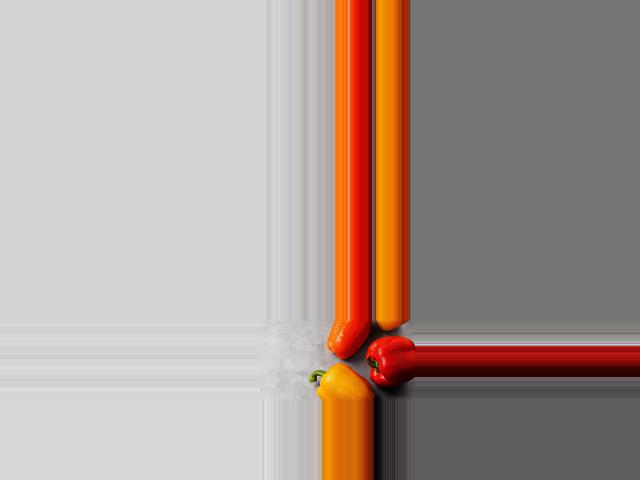bell_pepper: (365, 335, 414, 389)
